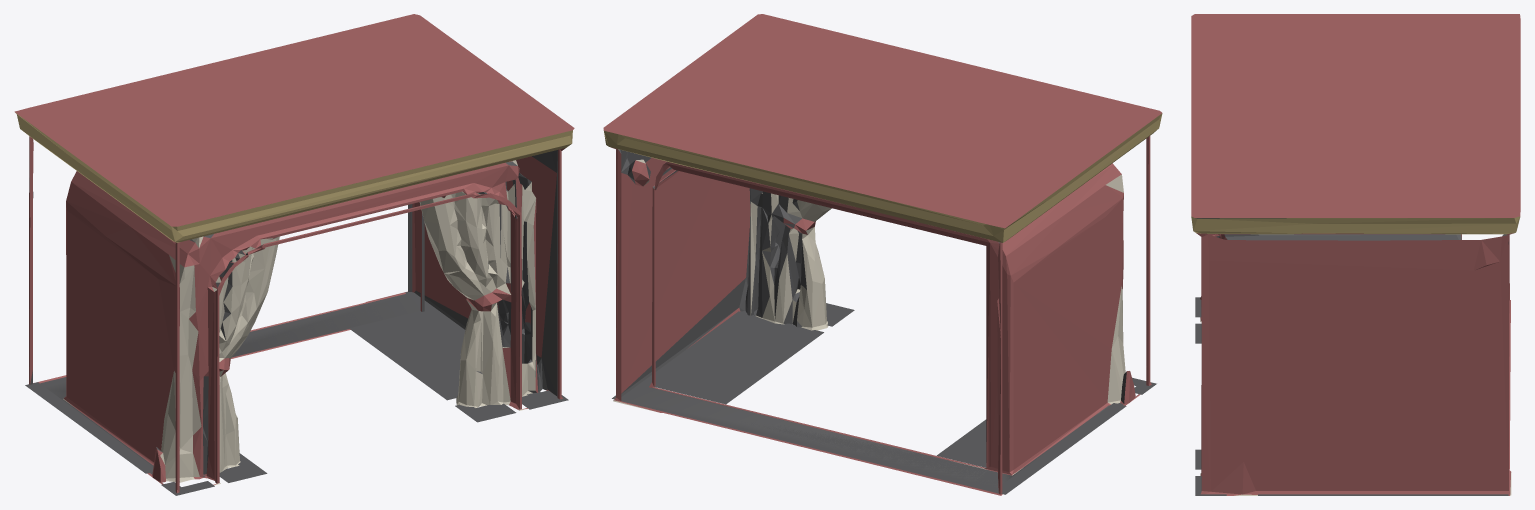
File: etape-1.glb
The picture shows the model from 3 angles, left to right: view 1: azimuth 30°, elevation 25°; view 2: azimuth 150°, elevation 25°; view 3: azimuth 270°, elevation 25°; orthographic projection. The views are drawn at different scales.
Parts seen in each view (by area): view 1: geometry_0; view 2: geometry_0; view 3: geometry_0.
Part boxes in pixels (bbox=[...]): geometry_0: bbox=[14, 14, 574, 495]; geometry_0: bbox=[603, 14, 1162, 495]; geometry_0: bbox=[1191, 14, 1520, 495].
Size of the model in its own units: 0.966 by 0.622 by 0.6595.
